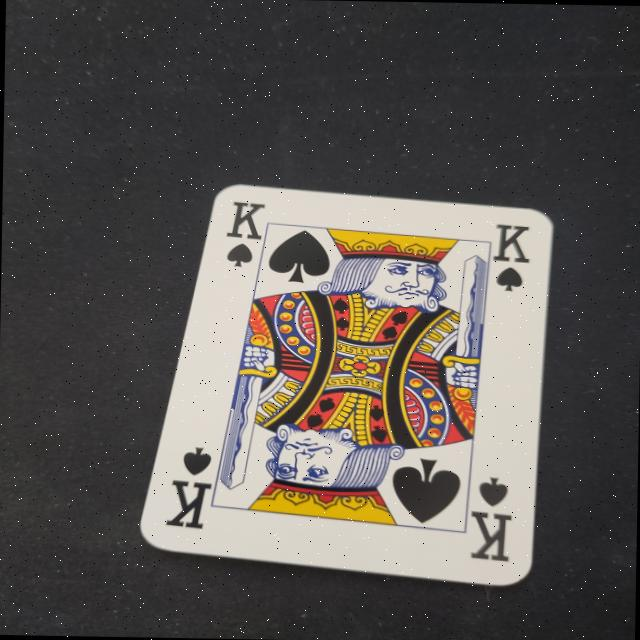Ks: (454, 468, 526, 575), (154, 438, 228, 540), (475, 210, 537, 313), (216, 191, 274, 285)
